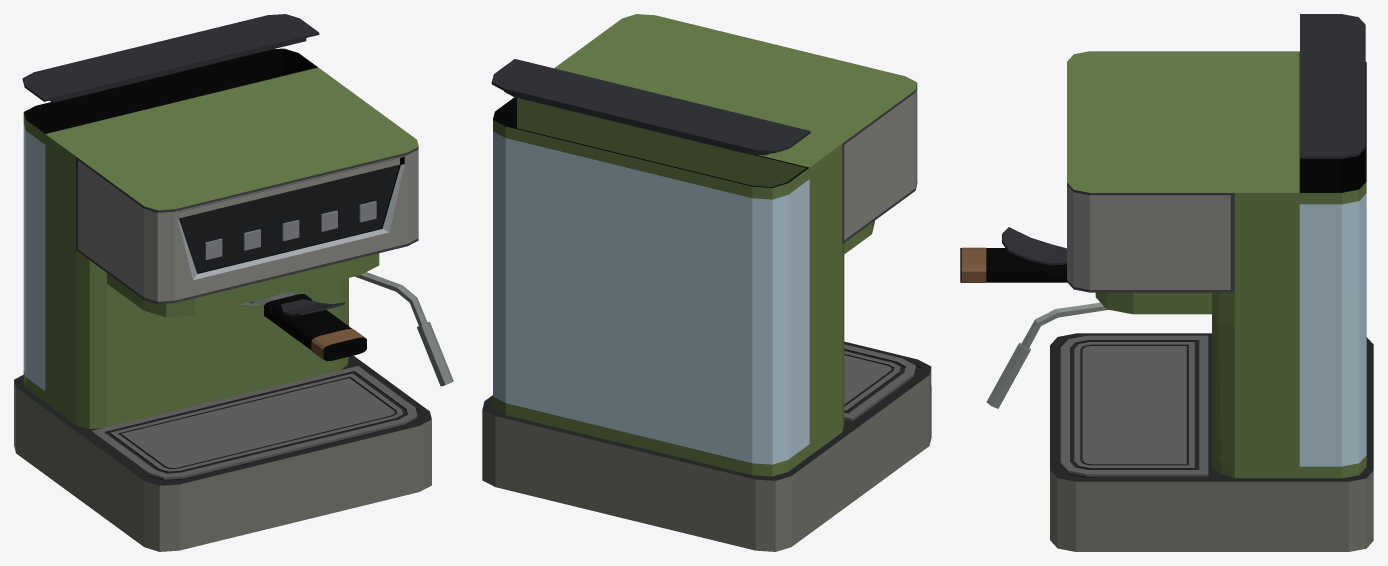
The model's file is coffeemaker_01_B.gltf.
The picture shows the model from 3 angles, left to right: view 1: azimuth 30°, elevation 25°; view 2: azimuth 150°, elevation 25°; view 3: azimuth 270°, elevation 25°; orthographic projection. The views are drawn at different scales.
Parts seen in each view (by area): view 1: coffeemaker_01_B, Capforcoffemaker_01_B, leverarmforcoffemaker_01_B; view 2: coffeemaker_01_B, Capforcoffemaker_01_B; view 3: coffeemaker_01_B, Capforcoffemaker_01_B, leverarmforcoffemaker_01_B.
Part boxes in pixels (<box>): coffeemaker_01_B: <box>14,48,453,551</box>; Capforcoffemaker_01_B: <box>22,14,319,102</box>; leverarmforcoffemaker_01_B: <box>240,291,366,361</box>; coffeemaker_01_B: <box>482,14,931,551</box>; Capforcoffemaker_01_B: <box>491,59,810,155</box>; coffeemaker_01_B: <box>986,51,1373,551</box>; Capforcoffemaker_01_B: <box>1300,14,1365,158</box>; leverarmforcoffemaker_01_B: <box>960,227,1066,282</box>.
Size of the model in its own units: 0.26 by 0.3211 by 0.3066.
Materials: 1 (1 with a texture image).
